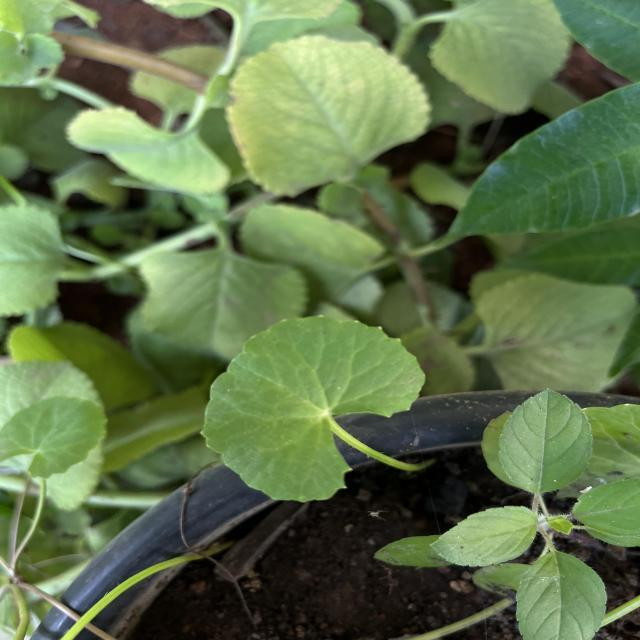Centella asiatica: (196, 310, 430, 506)
